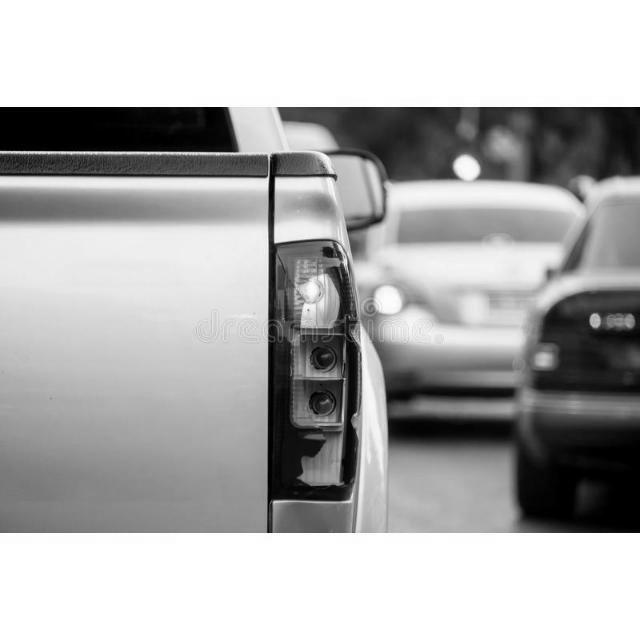Taillight-Damage: (258, 234, 364, 505)
